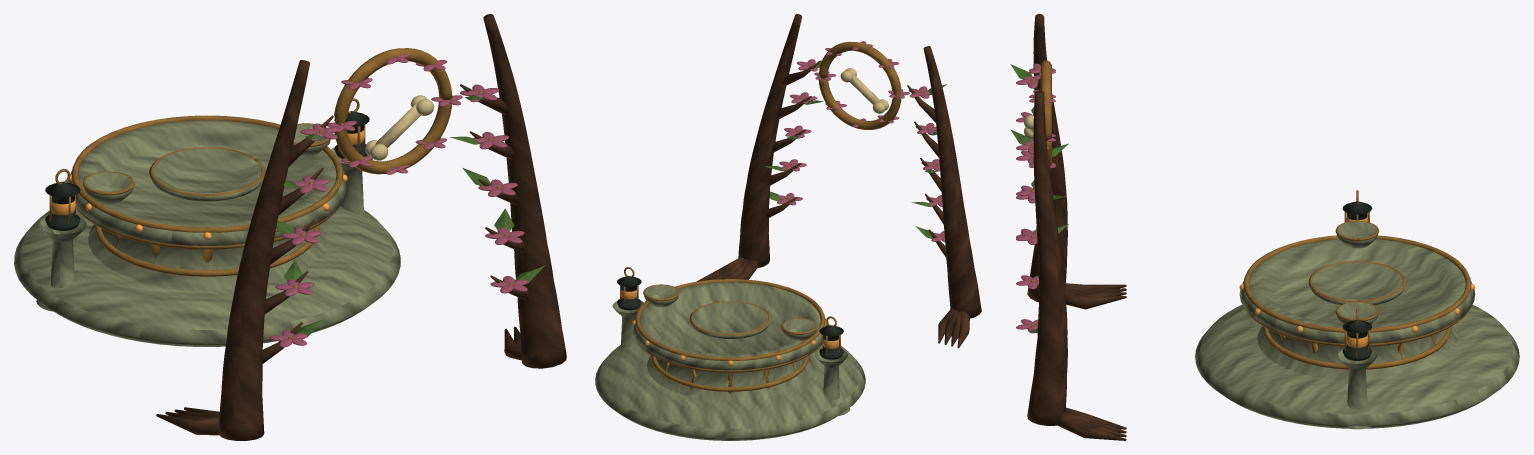
Rendered from Spring_Fusion.fbx.
3 renders of one model, left to right at view 1: azimuth 30°, elevation 25°; view 2: azimuth 150°, elevation 25°; view 3: azimuth 270°, elevation 25°, orthographic. The views are drawn at different scales.
Parts seen in each view (by area): view 1: Spring_Fusion_Stone, Spring_Fusion_Wood, Spring_Fusion_Metal, Spring_Fusion_Cloth, Spring_Fusion_Accent, Spring_Fusion_Iron, Spring_Fusion_Ivory, Spring_Fusion_Light; view 2: Spring_Fusion_Stone, Spring_Fusion_Wood, Spring_Fusion_Metal, Spring_Fusion_Cloth, Spring_Fusion_Iron, Spring_Fusion_Ivory, Spring_Fusion_Accent, Spring_Fusion_Light; view 3: Spring_Fusion_Stone, Spring_Fusion_Wood, Spring_Fusion_Metal, Spring_Fusion_Cloth, Spring_Fusion_Iron, Spring_Fusion_Accent.
Part boxes in pixels (bbox=[...]): Spring_Fusion_Stone: bbox=[14, 120, 400, 346]; Spring_Fusion_Wood: bbox=[156, 14, 566, 440]; Spring_Fusion_Metal: bbox=[49, 48, 513, 338]; Spring_Fusion_Cloth: bbox=[270, 54, 529, 347]; Spring_Fusion_Accent: bbox=[276, 95, 544, 335]; Spring_Fusion_Iron: bbox=[45, 111, 369, 230]; Spring_Fusion_Ivory: bbox=[365, 95, 434, 160]; Spring_Fusion_Light: bbox=[52, 128, 365, 240]; Spring_Fusion_Stone: bbox=[595, 282, 865, 440]; Spring_Fusion_Wood: bbox=[697, 14, 981, 348]; Spring_Fusion_Metal: bbox=[620, 41, 944, 393]; Spring_Fusion_Cloth: bbox=[777, 41, 945, 242]; Spring_Fusion_Iron: bbox=[617, 276, 843, 359]; Spring_Fusion_Ivory: bbox=[840, 68, 888, 113]; Spring_Fusion_Accent: bbox=[765, 60, 946, 238]; Spring_Fusion_Light: bbox=[620, 288, 838, 366]; Spring_Fusion_Stone: bbox=[1195, 221, 1519, 429]; Spring_Fusion_Wood: bbox=[1027, 14, 1126, 440]; Spring_Fusion_Metal: bbox=[1030, 60, 1471, 369]; Spring_Fusion_Cloth: bbox=[1016, 63, 1055, 333]; Spring_Fusion_Iron: bbox=[1342, 201, 1372, 360]; Spring_Fusion_Accent: bbox=[1010, 64, 1068, 333].
Bounding box in the file's own units: 8.25 × 7.78 × 11.46.
